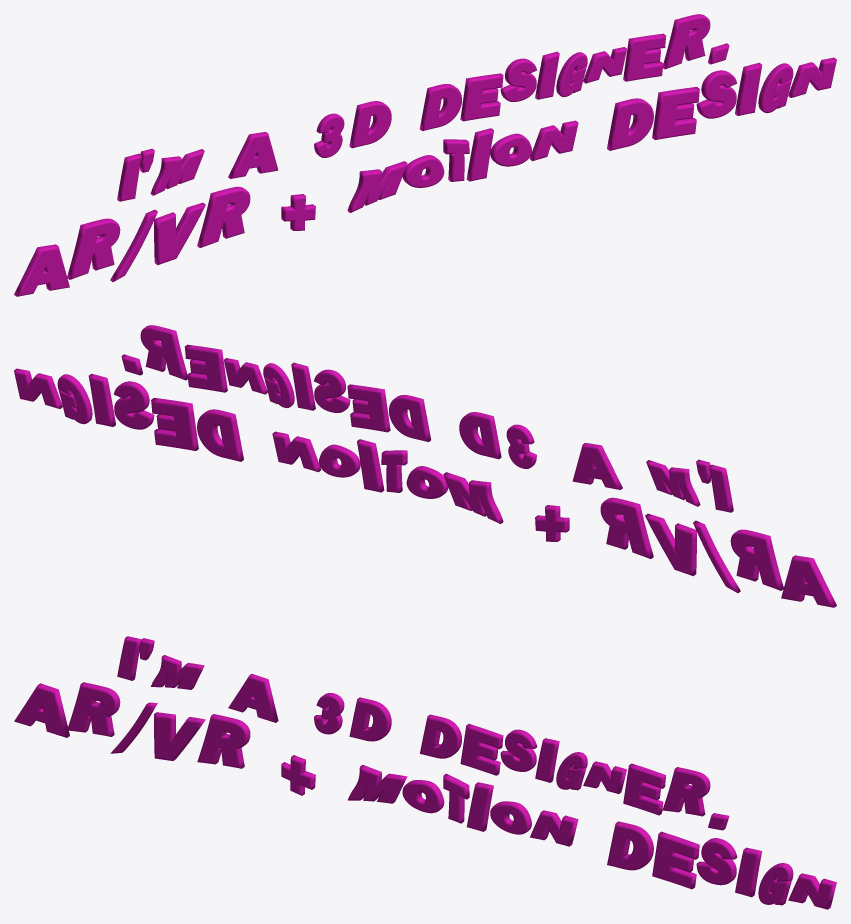
Rendered from DESIGNERDESCRIP.gltf.
3 renders of one model, top to bottom at view 1: azimuth 30°, elevation 25°; view 2: azimuth 150°, elevation 25°; view 3: azimuth 330°, elevation 25°, orthographic.
Parts seen in each view (by area): view 1: Text.064; view 2: Text.064; view 3: Text.064.
Boxes of the visible parts, x1,y1,x2,y2 form: Text.064: (14, 14, 836, 296); Text.064: (14, 325, 836, 607); Text.064: (14, 636, 836, 909).
Bounding box in the file's own units: 13.57 × 1.95 × 0.1331.
